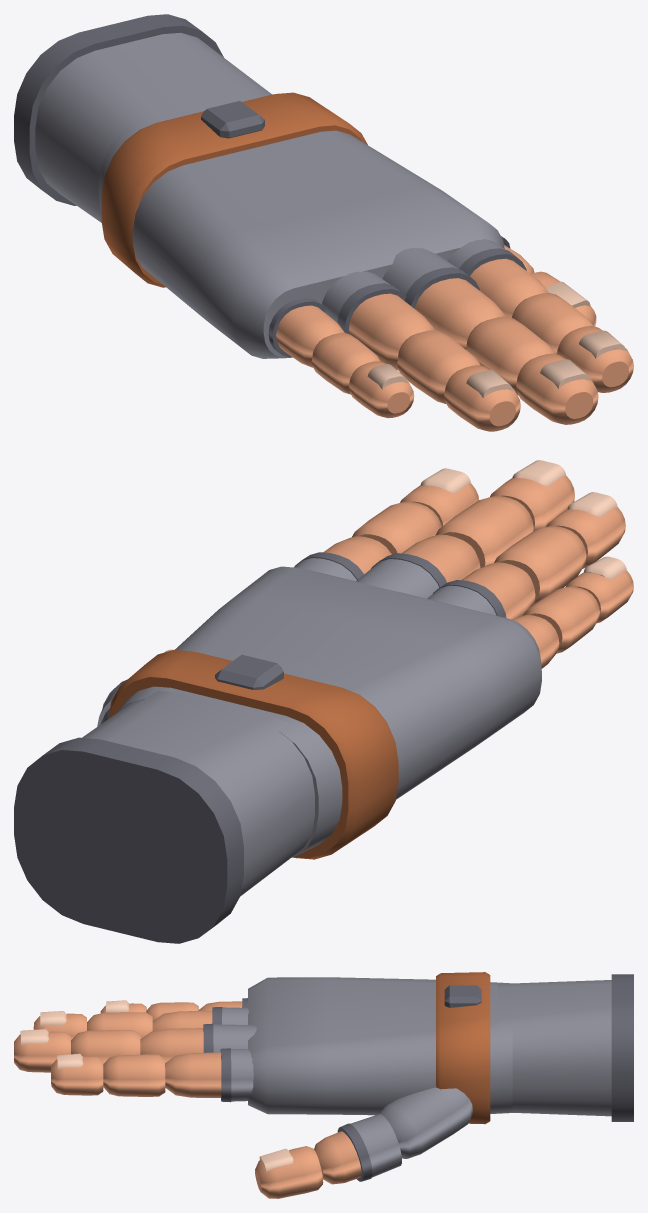
The model's file is main_gantee.glb.
The picture shows the model from 3 angles, top to bottom: view 1: azimuth 30°, elevation 25°; view 2: azimuth 150°, elevation 25°; view 3: azimuth 270°, elevation 25°; orthographic projection. The views are drawn at different scales.
Parts seen in each view (by area): view 1: main, manchette, majeur_1, annulaire_1, majeur_3, index_1, annulaire_3, annulaire_2, majeur_2, index_3, auriculaire_1, auriculaire_3 (+3 smaller); view 2: main, manchette, majeur_1, annulaire_2, annulaire_1, majeur_2, majeur_3, annulaire_3, index_2, auriculaire_2, index_1, index_3 (+2 smaller); view 3: main, manchette, pouce_2, pouce_1, index_1, majeur_1, pouce_3, index_2, index_3, majeur_3, majeur_2, annulaire_1 (+5 smaller).
Boxes of the visible parts, bbox=[...] form: main: bbox=[99, 91, 504, 358]; manchette: bbox=[14, 14, 270, 222]; majeur_1: bbox=[382, 248, 505, 349]; annulaire_1: bbox=[322, 271, 434, 370]; majeur_3: bbox=[516, 353, 598, 424]; index_1: bbox=[447, 239, 548, 317]; annulaire_3: bbox=[444, 365, 520, 431]; annulaire_2: bbox=[397, 330, 480, 403]; majeur_2: bbox=[466, 316, 554, 395]; index_3: bbox=[557, 326, 633, 392]; auriculaire_1: bbox=[268, 298, 344, 367]; auriculaire_3: bbox=[349, 361, 414, 418]; main: bbox=[108, 566, 541, 859]; manchette: bbox=[14, 691, 314, 943]; majeur_1: bbox=[356, 534, 480, 598]; annulaire_2: bbox=[494, 526, 586, 605]; annulaire_1: bbox=[427, 562, 535, 619]; majeur_2: bbox=[435, 495, 533, 567]; majeur_3: bbox=[490, 460, 574, 530]; annulaire_3: bbox=[546, 492, 625, 568]; index_2: bbox=[352, 501, 441, 554]; auriculaire_2: bbox=[523, 586, 599, 653]; index_1: bbox=[294, 536, 391, 581]; index_3: bbox=[400, 468, 478, 526]; main: bbox=[248, 972, 512, 1124]; manchette: bbox=[498, 974, 633, 1121]; pouce_2: bbox=[314, 1114, 401, 1184]; pouce_1: bbox=[378, 1087, 472, 1158]; index_1: bbox=[165, 1048, 253, 1102]; majeur_1: bbox=[140, 1023, 256, 1063]; pouce_3: bbox=[255, 1146, 323, 1198]; index_2: bbox=[103, 1054, 165, 1096]; index_3: bbox=[51, 1053, 103, 1095]; majeur_3: bbox=[14, 1029, 70, 1072]; majeur_2: bbox=[71, 1030, 140, 1063]; annulaire_1: bbox=[152, 1007, 248, 1030].
Bounding box in the file's own units: 0.1208 × 0.0605 × 0.2505.
